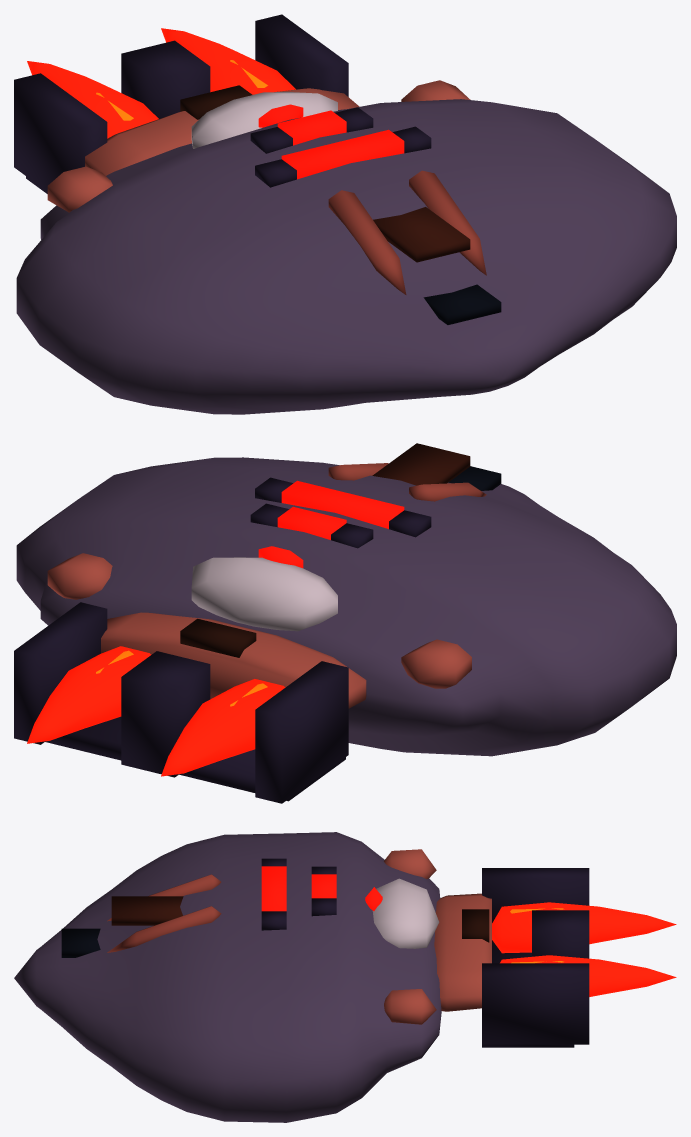
File: newshu-45.glb
3 views of the same model, one above another, from view 1: azimuth 30°, elevation 25°; view 2: azimuth 150°, elevation 25°; view 3: azimuth 270°, elevation 25° (orthographic). The views are drawn at different scales.
Visible parts, largest first — view 1: newshu-45; view 2: newshu-45; view 3: newshu-45.
Part boxes in pixels (x1,y1,x2,y2): newshu-45: (14,14,676,414); newshu-45: (14,443,676,803); newshu-45: (14,832,676,1122).
Size of the model in its own units: 1.84 by 0.6525 by 2.21.
